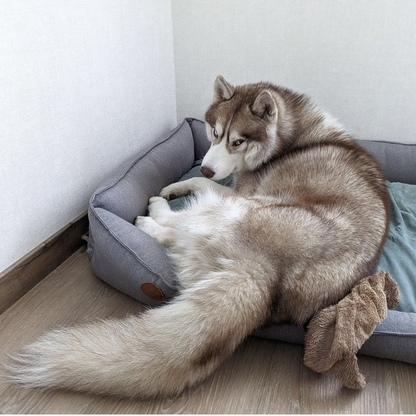husky: (5, 68, 397, 403)
